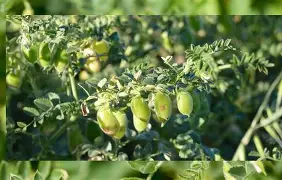crops: (0, 3, 276, 172)
